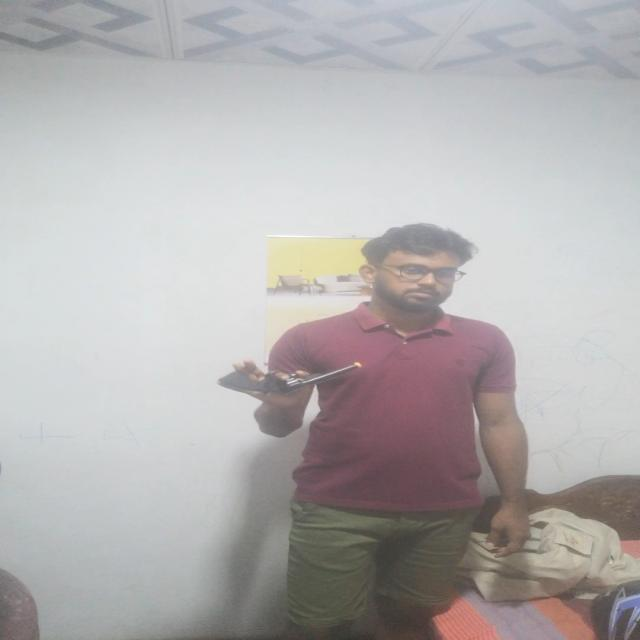Gun_Holder: (222, 358, 381, 402)
Person: (244, 216, 557, 640)
